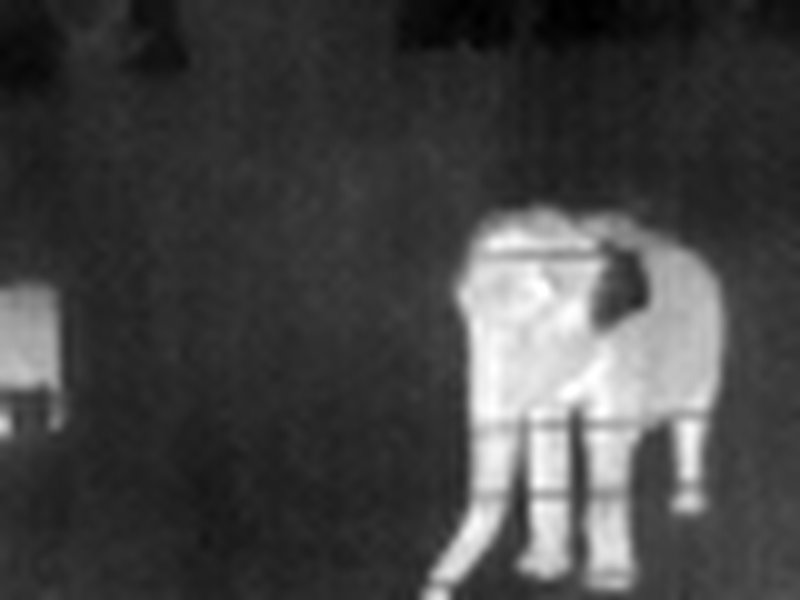elephant: (422, 206, 745, 600)
